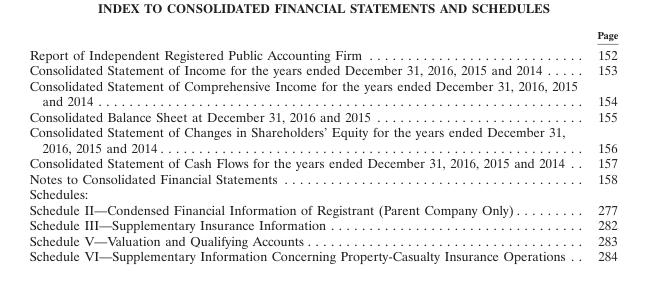table: (28, 28, 617, 263)
table column: (28, 28, 586, 263), (586, 28, 617, 263)
table column header: (28, 28, 617, 43)
table projected row header: (28, 186, 617, 201)
table row: (28, 77, 617, 108), (28, 124, 617, 155), (28, 43, 617, 62), (28, 108, 617, 124), (28, 170, 617, 186), (28, 201, 617, 217), (28, 232, 617, 248), (28, 28, 617, 43), (28, 62, 617, 77), (28, 155, 617, 170), (28, 186, 617, 201), (28, 217, 617, 232), (28, 248, 617, 263)
